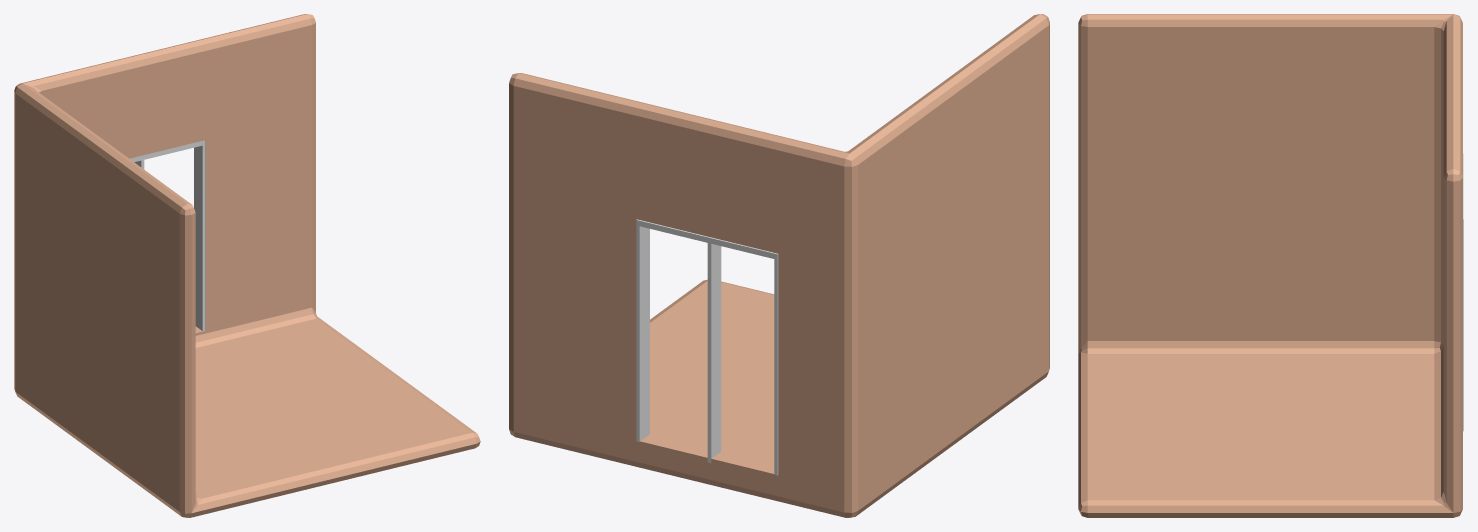
The model's file is Wall06.fbx.
3 views of the same model, side by side, from view 1: azimuth 30°, elevation 25°; view 2: azimuth 150°, elevation 25°; view 3: azimuth 270°, elevation 25° (orthographic). The views are drawn at different scales.
Parts seen in each view (by area): view 1: Wall; view 2: Wall; view 3: Wall.
Boxes of the visible parts, x1,y1,x2,y2 form: Wall: (14,14,480,517); Wall: (509,14,1049,517); Wall: (1078,14,1463,517).
Bounding box in the file's own units: 200 × 200 × 200.
